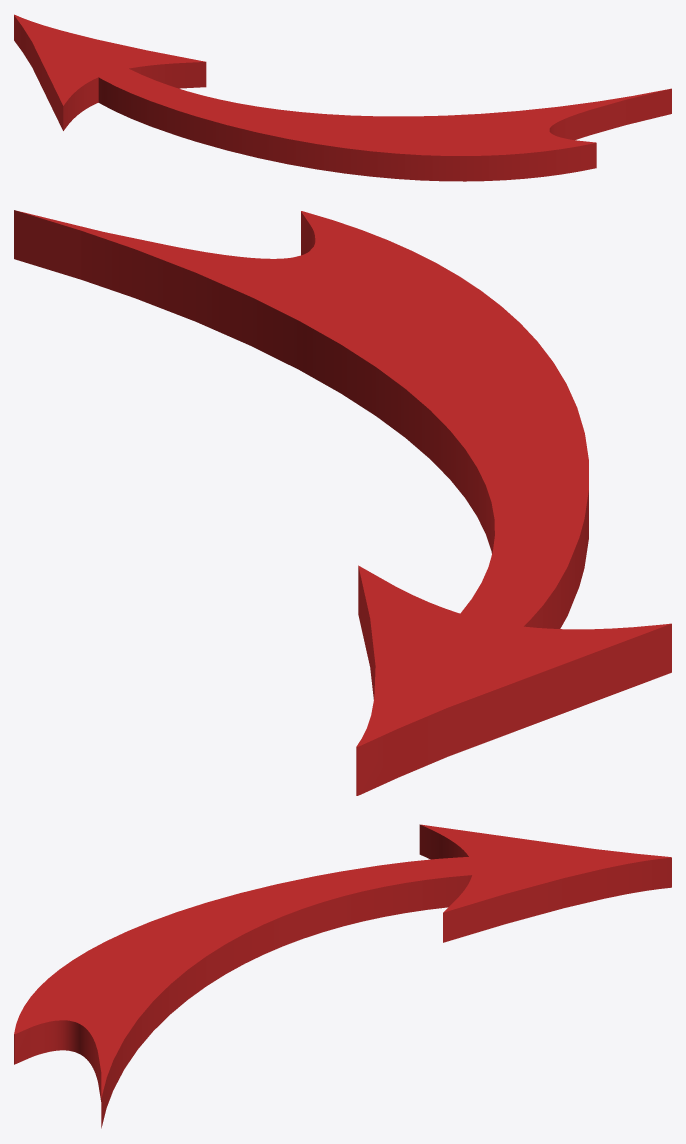
Rendered from Pijl groot.glb.
3 views of the same model, one above another, from view 1: azimuth 30°, elevation 25°; view 2: azimuth 150°, elevation 25°; view 3: azimuth 270°, elevation 25° (orthographic). The views are drawn at different scales.
Size of the model in its own units: 0.0978 by 0.005 by 0.0989.
